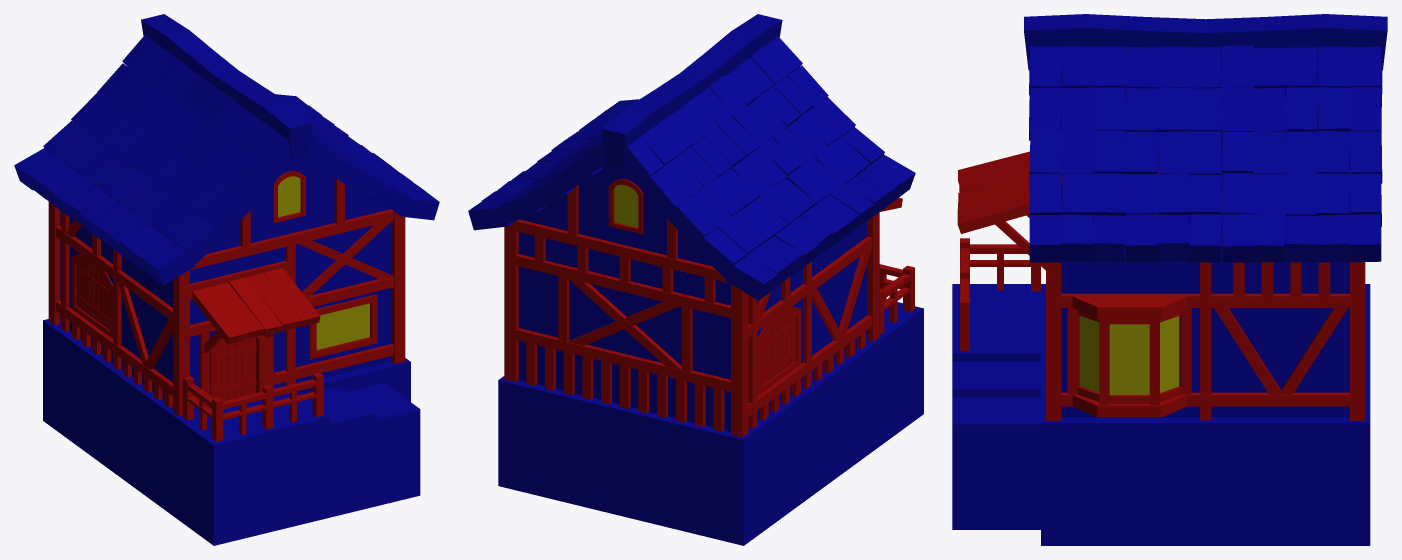
The picture shows the model from 3 angles, left to right: view 1: azimuth 30°, elevation 25°; view 2: azimuth 150°, elevation 25°; view 3: azimuth 270°, elevation 25°; orthographic projection. The views are drawn at different scales.
Visible parts, largest first — view 1: fangding.001, diban, zhuzi, fang06, boli, men.001, chuangmen, chuangmen.001; view 2: fangding.001, diban, zhuzi, fang06, chuangmen.001, boli, chuangmen; view 3: fangding.001, diban, zhuzi, fang06, boli.
Boxes of the visible parts, x1,y1,x2,y2 form: fangding.001: (14,14,439,285); diban: (43,319,420,545); zhuzi: (48,171,405,441); fang06: (60,156,391,409); boli: (278,176,369,349); men.001: (217,337,256,400); chuangmen: (76,262,93,318); chuangmen.001: (93,268,109,329); fangding.001: (468,14,915,300); diban: (498,302,923,545); zhuzi: (504,179,914,437); fang06: (518,164,867,431); chuangmen.001: (777,315,796,374); boli: (614,184,638,227); chuangmen: (760,322,777,386); fangding.001: (1024,14,1387,262); diban: (952,284,1370,545); zhuzi: (957,103,1365,420); fang06: (1061,117,1349,417); boli: (1080,316,1179,394).
Size of the model in its own units: 630 by 793 by 687.
